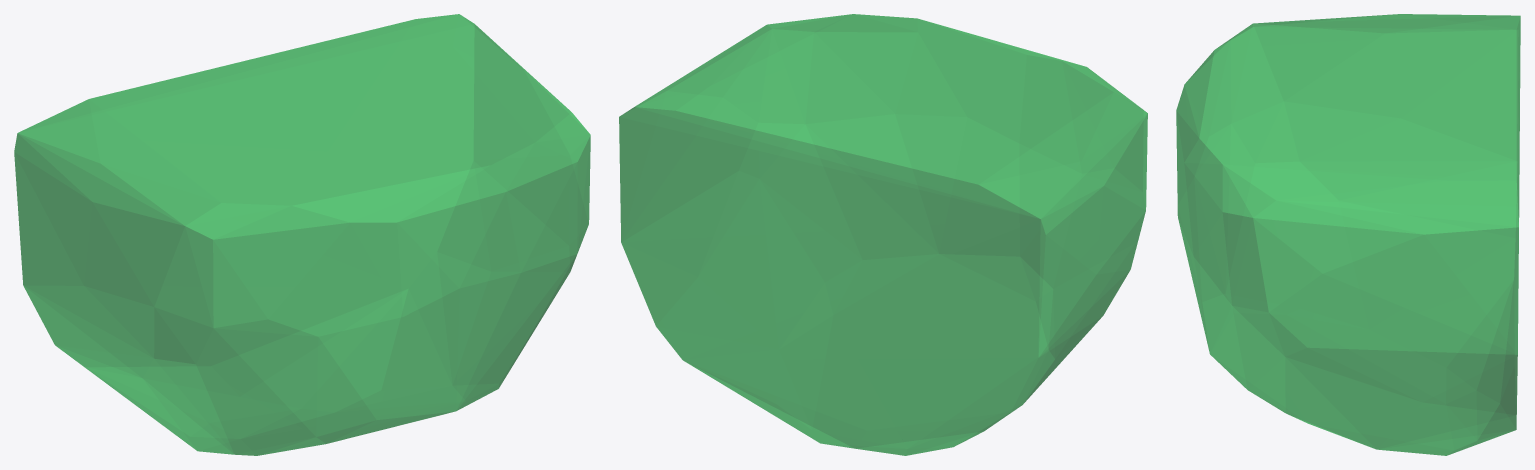
3 views of the same model, side by side, from view 1: azimuth 30°, elevation 25°; view 2: azimuth 150°, elevation 25°; view 3: azimuth 270°, elevation 25° (orthographic). The views are drawn at different scales.
Parts seen in each view (by area): view 1: Shape_IndexedFaceSet.001_Shape_IndexedFaceSet.18224; view 2: Shape_IndexedFaceSet.001_Shape_IndexedFaceSet.18224; view 3: Shape_IndexedFaceSet.001_Shape_IndexedFaceSet.18224.
Boxes of the visible parts, x1,y1,x2,y2 form: Shape_IndexedFaceSet.001_Shape_IndexedFaceSet.18224: [14, 14, 590, 455]; Shape_IndexedFaceSet.001_Shape_IndexedFaceSet.18224: [619, 14, 1147, 455]; Shape_IndexedFaceSet.001_Shape_IndexedFaceSet.18224: [1176, 14, 1520, 455].
Bounding box in the file's own units: 0.3344 × 0.2368 × 0.2292.
